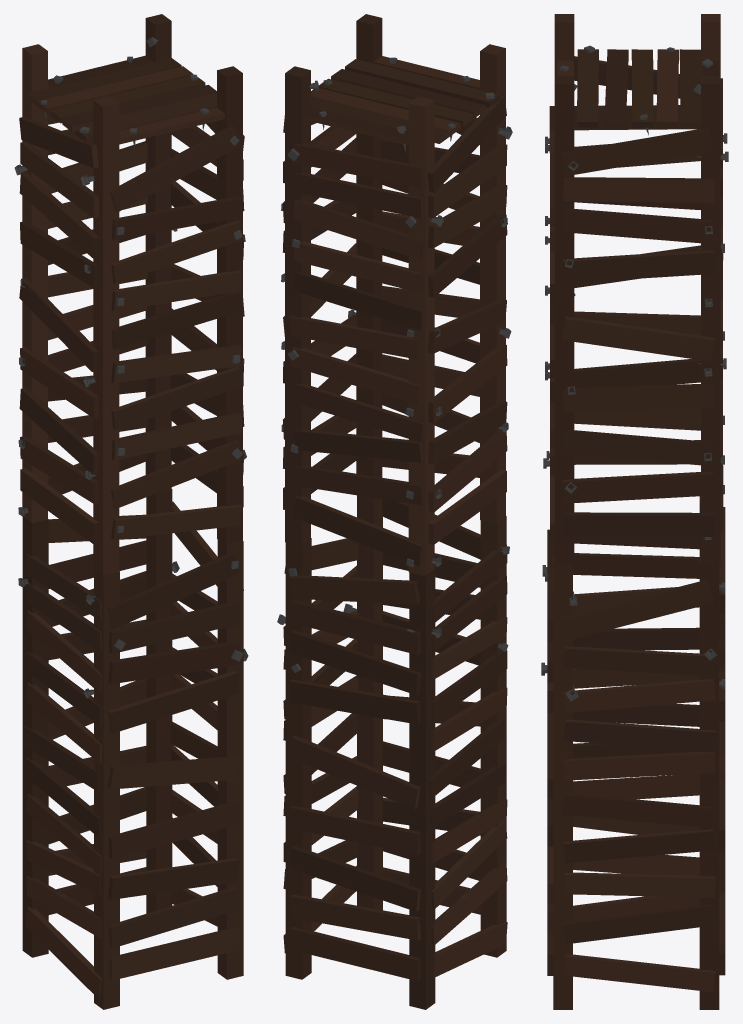
Rendered from WoodTower.glb.
3 renders of one model, left to right at view 1: azimuth 30°, elevation 25°; view 2: azimuth 150°, elevation 25°; view 3: azimuth 270°, elevation 25°, orthographic. The views are drawn at different scales.
Visible parts, largest first — view 1: WoodTower; view 2: WoodTower; view 3: WoodTower.
Boxes of the visible parts, box(x1,y1,x2,y2) form: WoodTower: box(14, 14, 248, 1009); WoodTower: box(277, 14, 512, 1009); WoodTower: box(541, 14, 728, 1009).
Bounding box in the file's own units: 6.71 × 35.59 × 6.53.
1 material, 1 textured.
